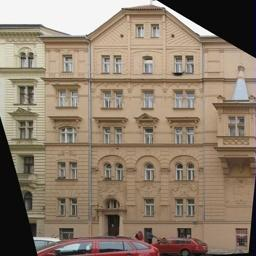building: (42, 7, 256, 233)
